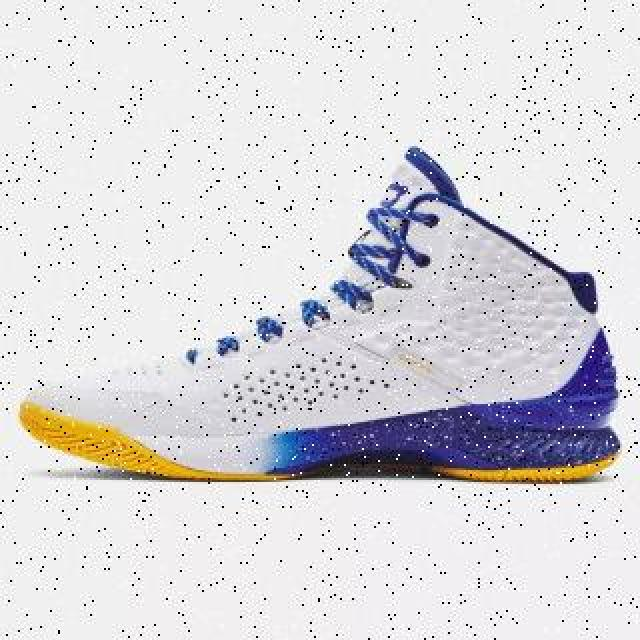shoe: (21, 142, 621, 484)
